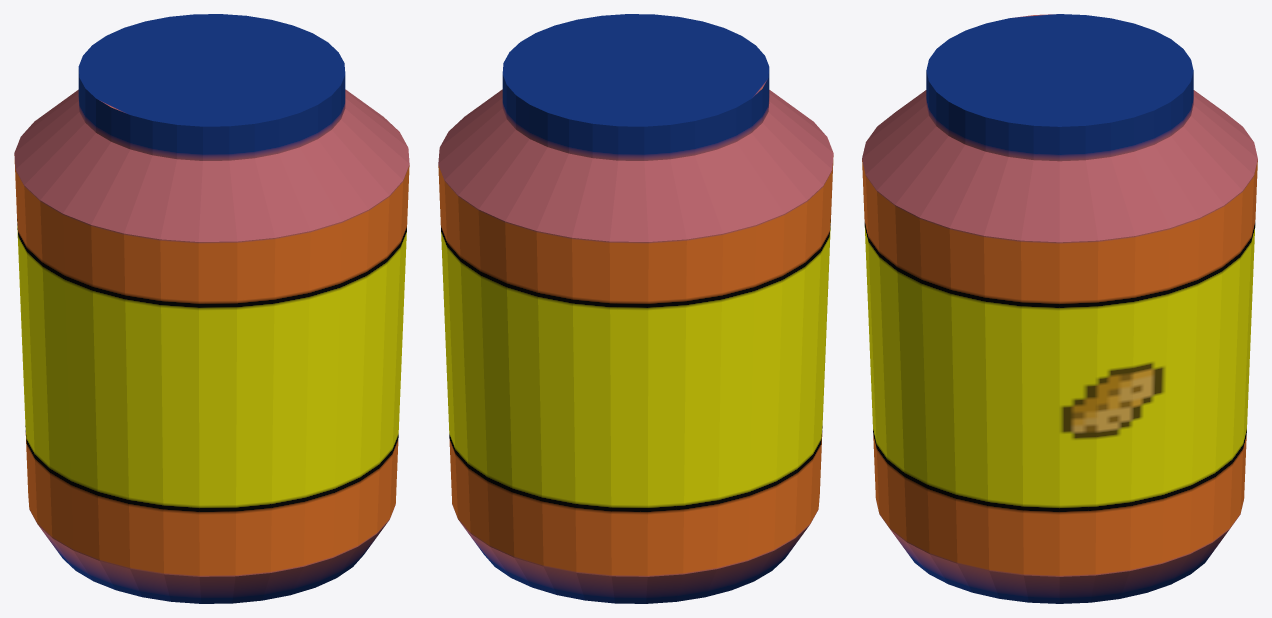
Rendered from PeanutButter.fbx.
3 views of the same model, side by side, from view 1: azimuth 30°, elevation 25°; view 2: azimuth 150°, elevation 25°; view 3: azimuth 270°, elevation 25° (orthographic).
Visible parts, largest first — view 1: PeanutButter; view 2: PeanutButter; view 3: PeanutButter.
Part boxes in pixels (x1=…): PeanutButter: x1=14, y1=14, x2=409, y2=603; PeanutButter: x1=438, y1=14, x2=833, y2=603; PeanutButter: x1=862, y1=14, x2=1257, y2=603.
Bounding box in the file's own units: 79.61 × 104 × 79.61.
1 material, 1 textured.
